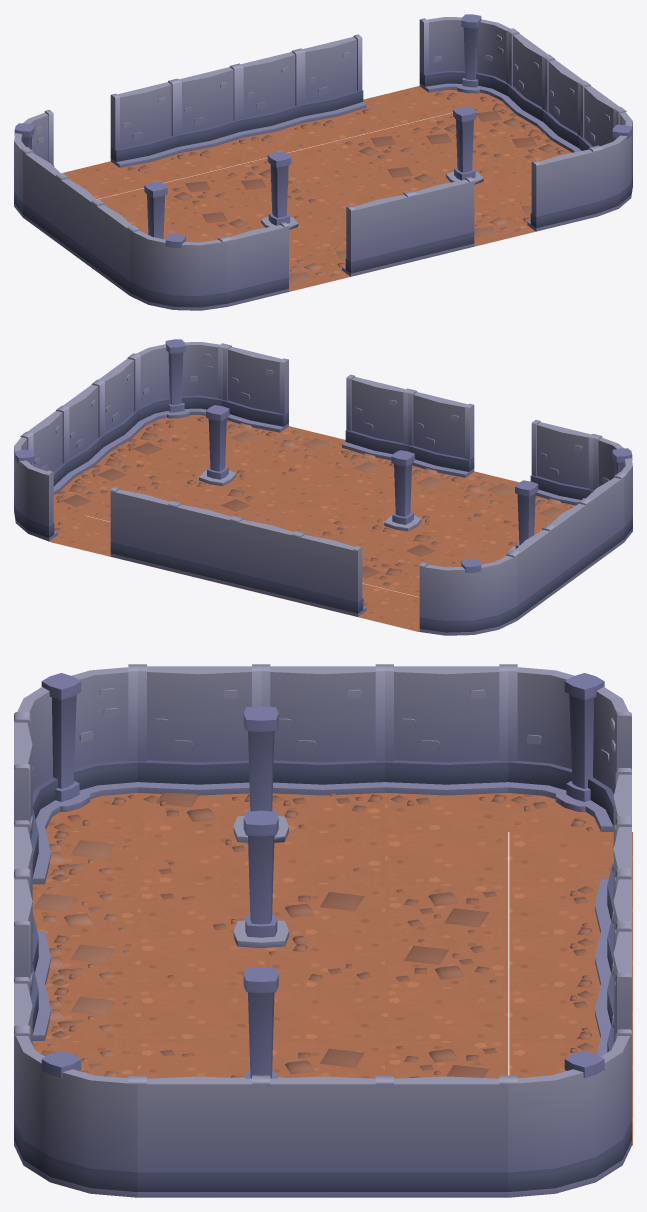
The model's file is new_rectangle_4_opening.glb.
3 renders of one model, top to bottom at view 1: azimuth 30°, elevation 25°; view 2: azimuth 150°, elevation 25°; view 3: azimuth 270°, elevation 25°, orthographic. The views are drawn at different scales.
Parts seen in each view (by area): view 1: template-corner.002, template-floor-big, template-floor-big.007, template-corner.003, template-wall.009, template-wall.025, template-wall.024, template-wall.011, template-wall.007, template-wall.026, template-wall.027, template-wall.006 (+28 smaller); view 2: template-floor-big, template-floor-big.007, template-corner.008, template-corner.005, template-wall.007, template-wall.026, template-wall.009, template-wall.027, template-wall.006, template-wall.024, template-wall.025, template-wall.011 (+24 smaller); view 3: template-floor-big, template-floor-big.001, template-corner.005, template-corner.003, template-wall.016, template-corner.002, template-corner.008, template-wall.033, template-wall.004, template-wall.005, template-wall.032, template-wall.013 (+27 smaller).
Part boxes in pixels (<box>): template-corner.002: <box>419,14,515,109</box>; template-floor-big: <box>182,151,346,256</box>; template-floor-big.007: <box>368,106,531,211</box>; template-corner.003: <box>130,227,227,310</box>; template-wall.009: <box>110,79,185,171</box>; template-wall.025: <box>235,49,308,141</box>; template-wall.024: <box>297,34,370,126</box>; template-wall.011: <box>173,64,247,156</box>; template-wall.007: <box>337,192,412,276</box>; template-wall.026: <box>523,146,597,231</box>; template-wall.027: <box>409,176,474,261</box>; template-wall.006: <box>224,222,288,306</box>; template-floor-big: <box>306,450,499,564</box>; template-floor-big.007: <box>120,405,314,519</box>; template-corner.008: <box>131,339,226,436</box>; template-corner.005: <box>419,552,516,635</box>; template-wall.007: <box>407,389,474,481</box>; template-wall.026: <box>222,344,288,436</box>; template-wall.009: <box>296,532,368,616</box>; template-wall.027: <box>340,374,411,466</box>; template-wall.006: <box>530,420,596,508</box>; template-wall.024: <box>110,486,175,571</box>; template-wall.025: <box>172,501,237,586</box>; template-wall.011: <box>234,517,299,601</box>; template-floor-big: <box>137,810,384,988</box>; template-floor-big.001: <box>137,706,384,884</box>; template-corner.005: <box>508,664,631,831</box>; template-corner.003: <box>14,664,137,831</box>; template-wall.016: <box>385,664,508,805</box>; template-corner.002: <box>508,1029,631,1197</box>; template-corner.008: <box>14,1029,137,1197</box>; template-wall.033: <box>137,1075,261,1197</box>; template-wall.004: <box>261,664,384,805</box>; template-wall.005: <box>137,664,261,805</box>; template-wall.032: <box>261,1075,384,1197</box>; template-wall.013: <box>385,1075,508,1197</box>.
Size of the model in its own units: 32 by 4.23 by 20.03.
18 materials, 18 textured.
